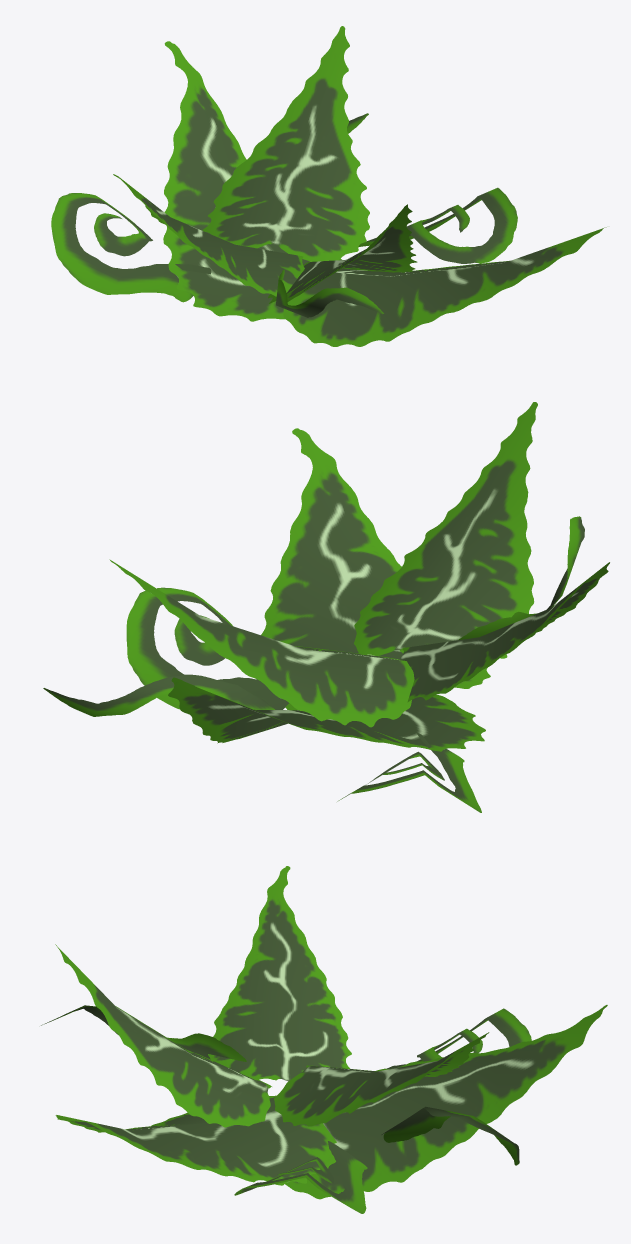
The model's file is Ctn_groundPlant_01_v02.FBX.
3 views of the same model, one above another, from view 1: azimuth 30°, elevation 25°; view 2: azimuth 150°, elevation 25°; view 3: azimuth 270°, elevation 25° (orthographic). The views are drawn at different scales.
Parts seen in each view (by area): view 1: Ctn_groundPlant_01_v02; view 2: Ctn_groundPlant_01_v02; view 3: Ctn_groundPlant_01_v02.
Part boxes in pixels (box(x1,y1,x2,y2)): Ctn_groundPlant_01_v02: box(51, 26, 606, 346); Ctn_groundPlant_01_v02: box(43, 402, 609, 812); Ctn_groundPlant_01_v02: box(41, 866, 607, 1213).
Size of the model in its own units: 46.95 by 24.81 by 57.66.
